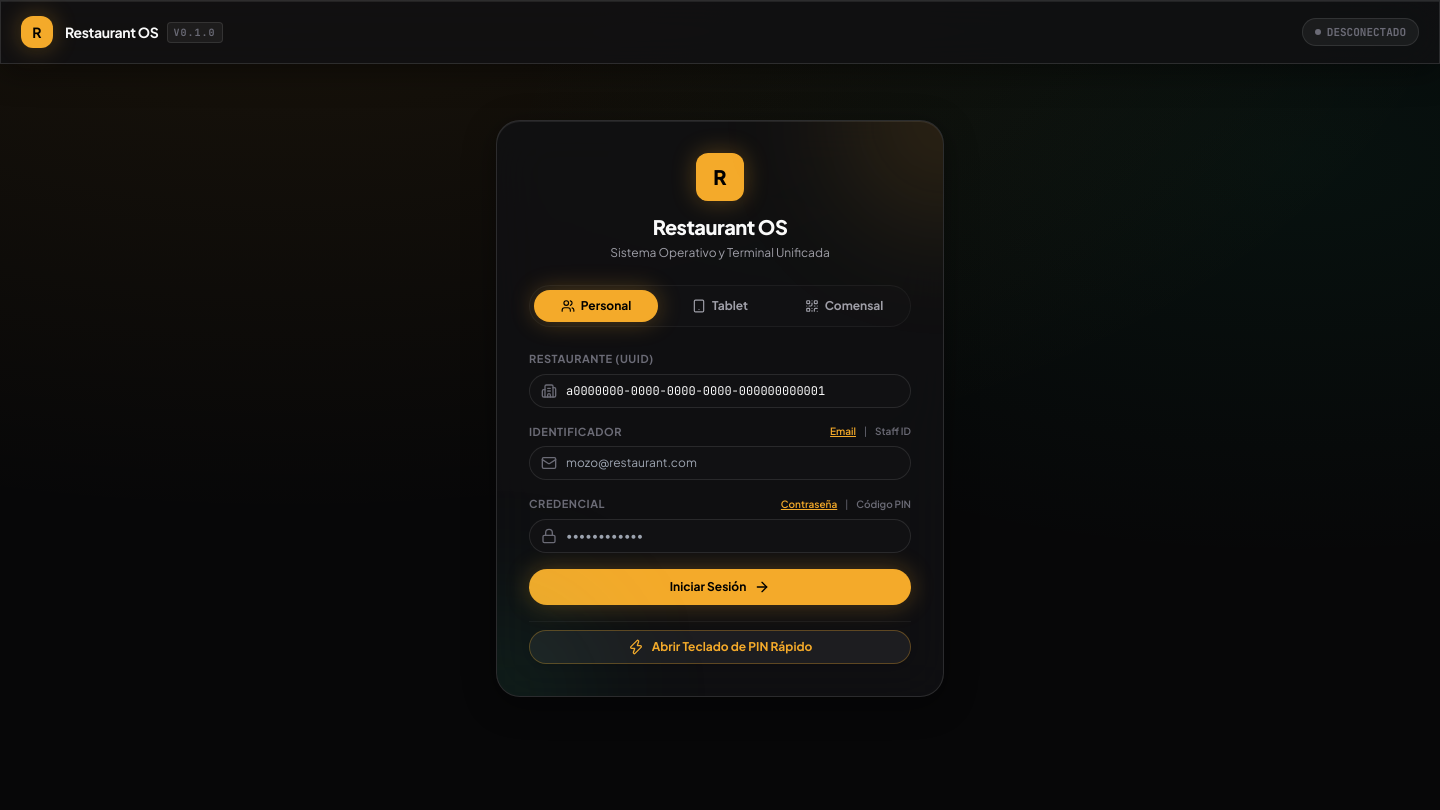
Test case: Step 3.5 — Frontend Authentication, Authorization & Session Management › 2. Staff Authentication (Password & PIN) › 2.2. Successfully logs in with PIN
The image size is (1440, 810).
Note: Switch to ID and PIN
Click the button "Staff ID" at (893, 432), box [875,424,911,439]
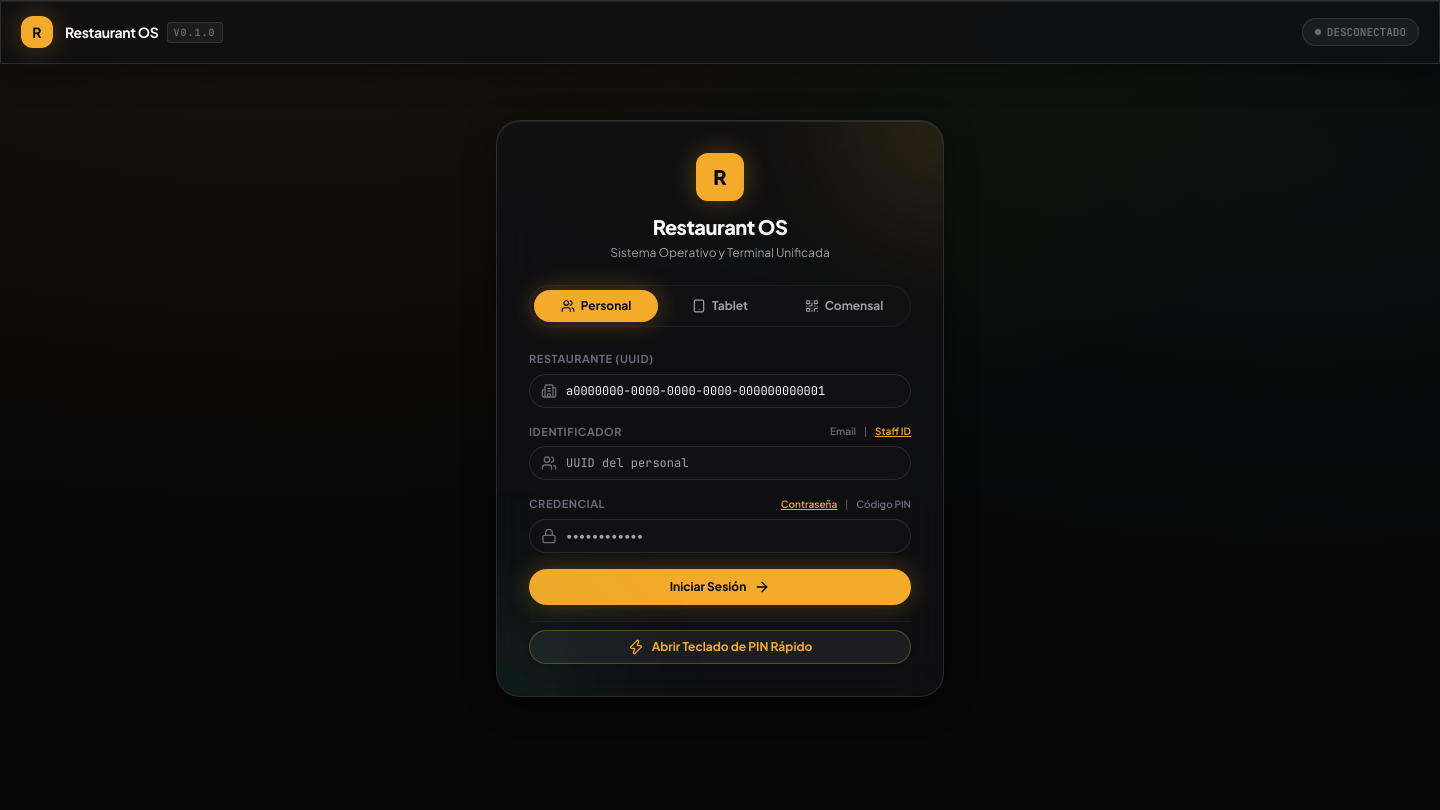
Click the button "Código PIN" at (884, 504), box [856,497,911,512]
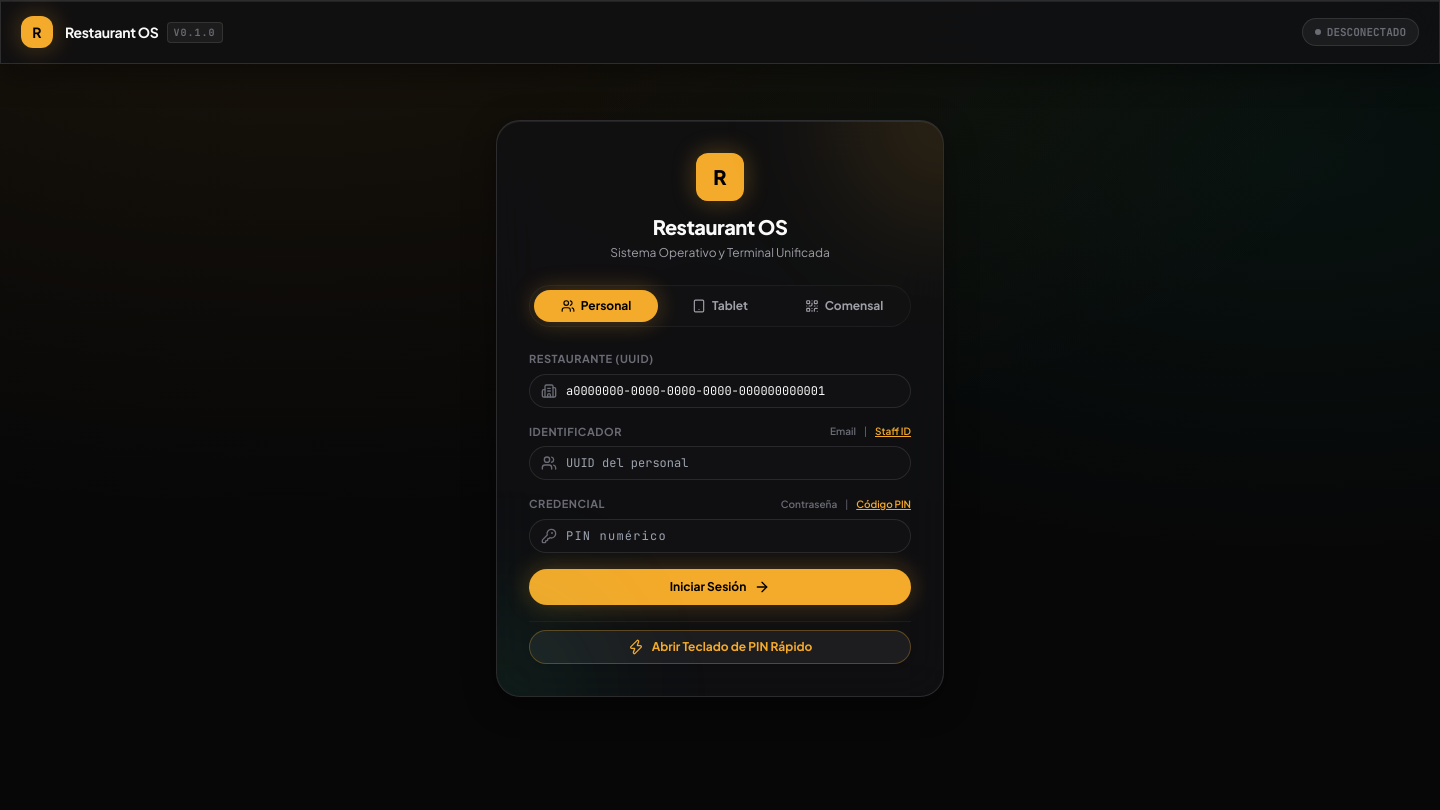
Type "90000000-0000-0000-0000-000000000001" into the field with placeholder "UUID del personal" at (720, 463), box [529,446,911,480]
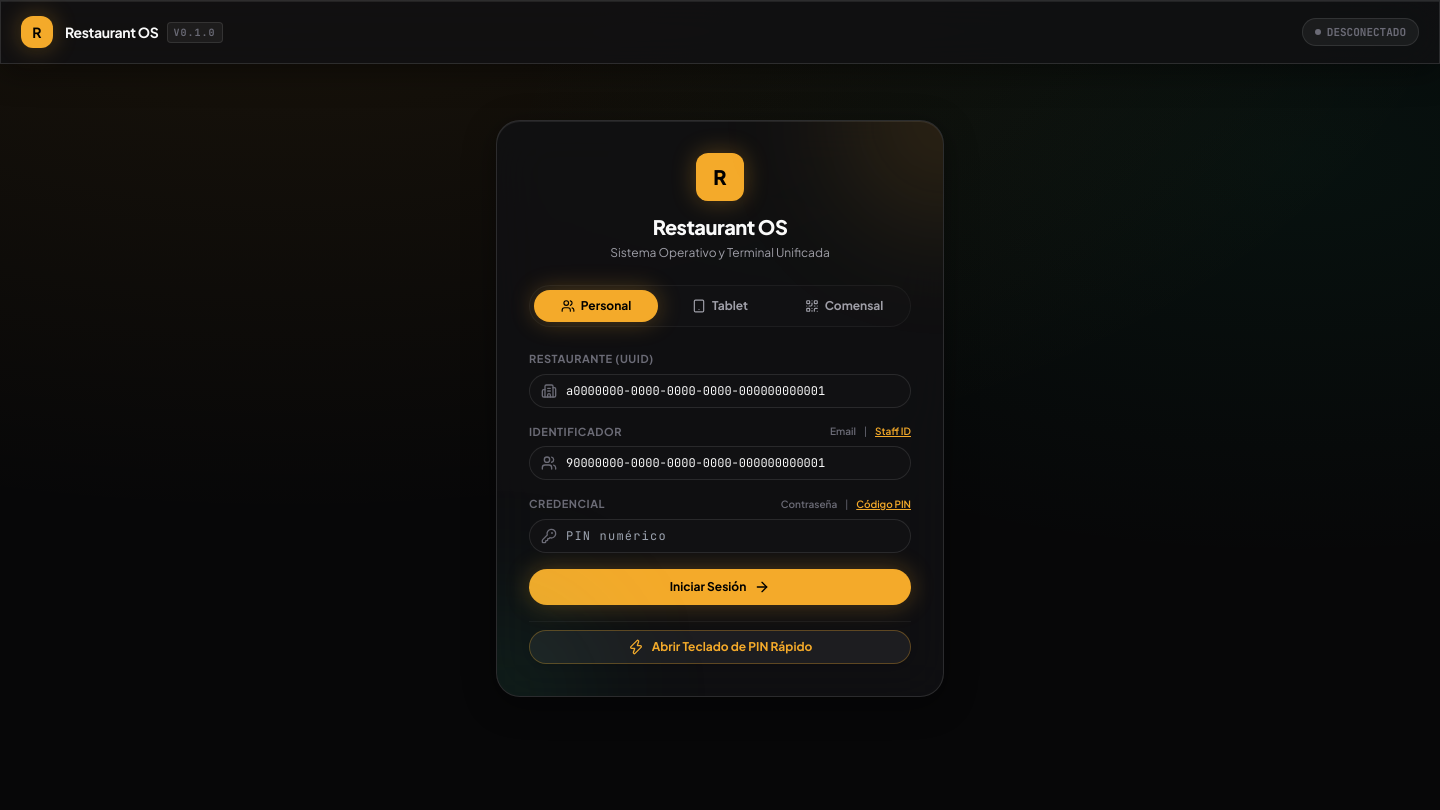
Type "1234" into the password field with placeholder "PIN numérico" at (720, 536), box [529,518,911,552]
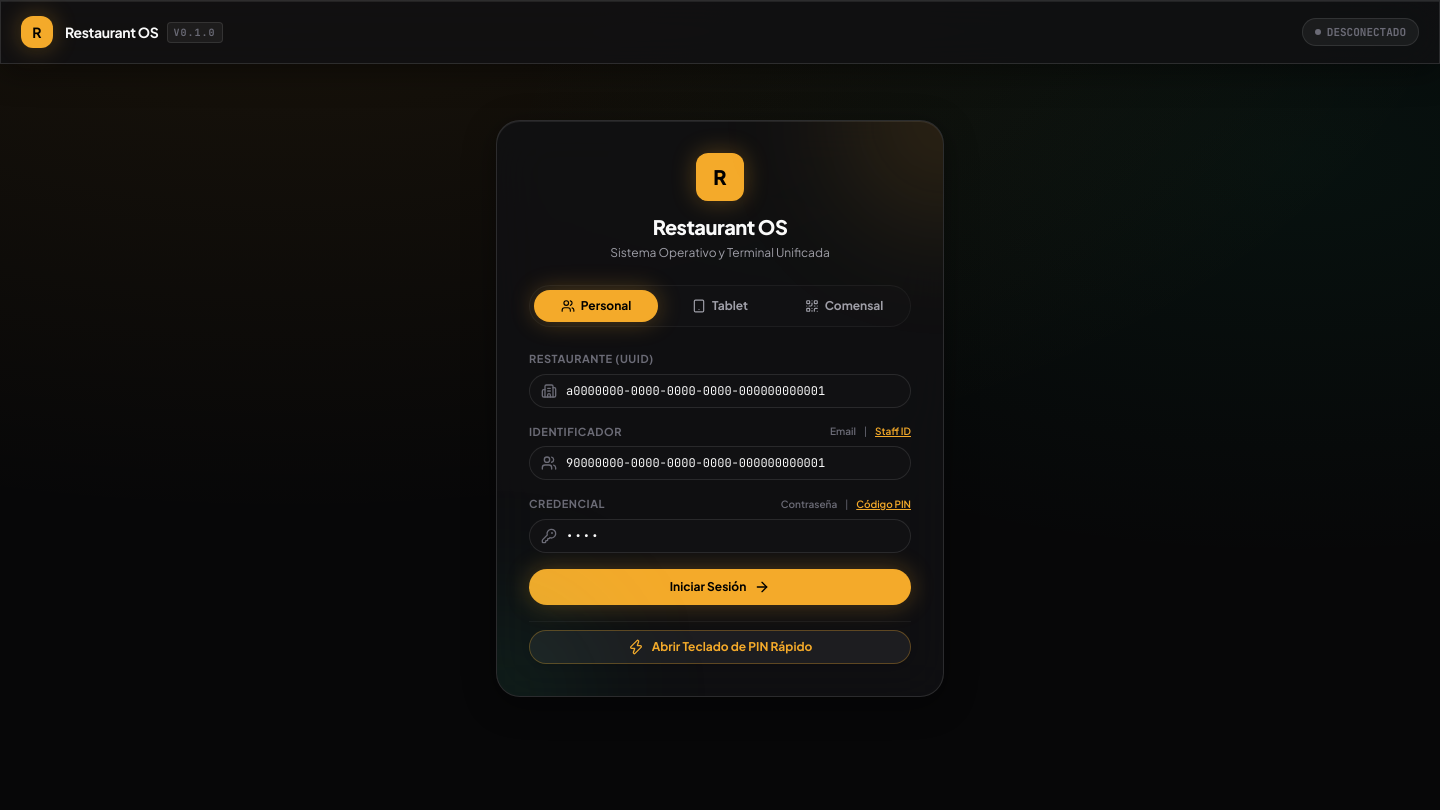
Click the button "Iniciar Sesión" at (720, 586), box [529,568,911,604]
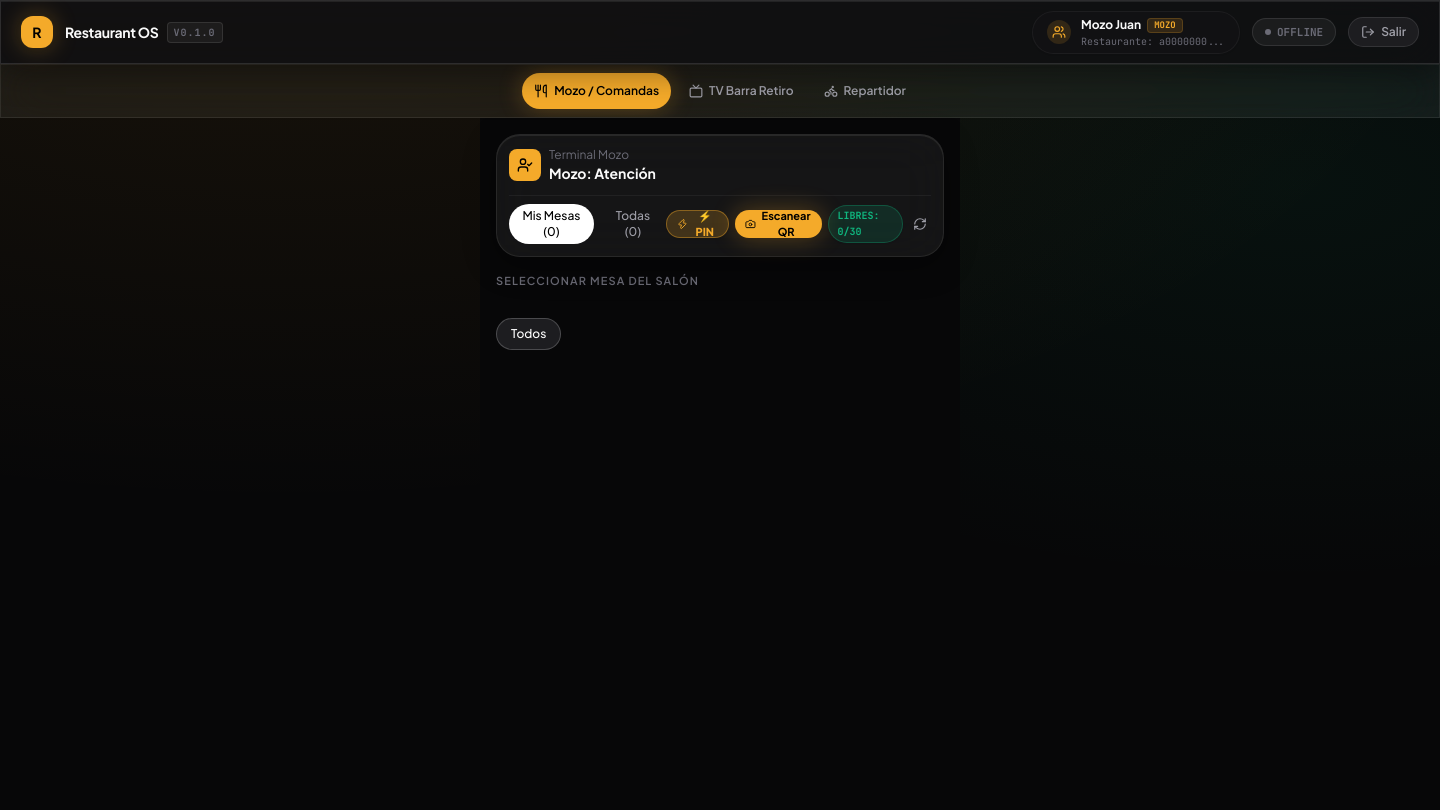
Expected: the text "Mozo Juan" is shown, [1081,19,1141,31]
Expected: the text "Mozo" is shown, [1147,18,1183,32]
